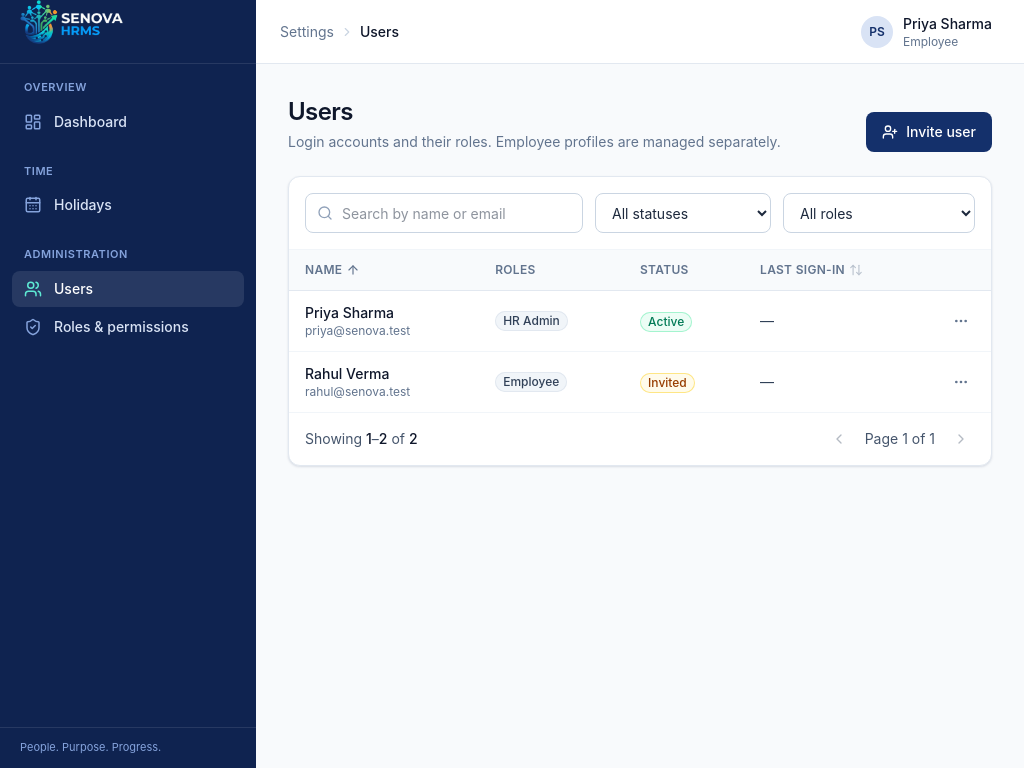
users page › shows server-side field errors in the form
This screenshot has width=1024, height=768.
Click the button "Invite user" at (929, 132), box top-left (866, 112), bottom-right (992, 152)
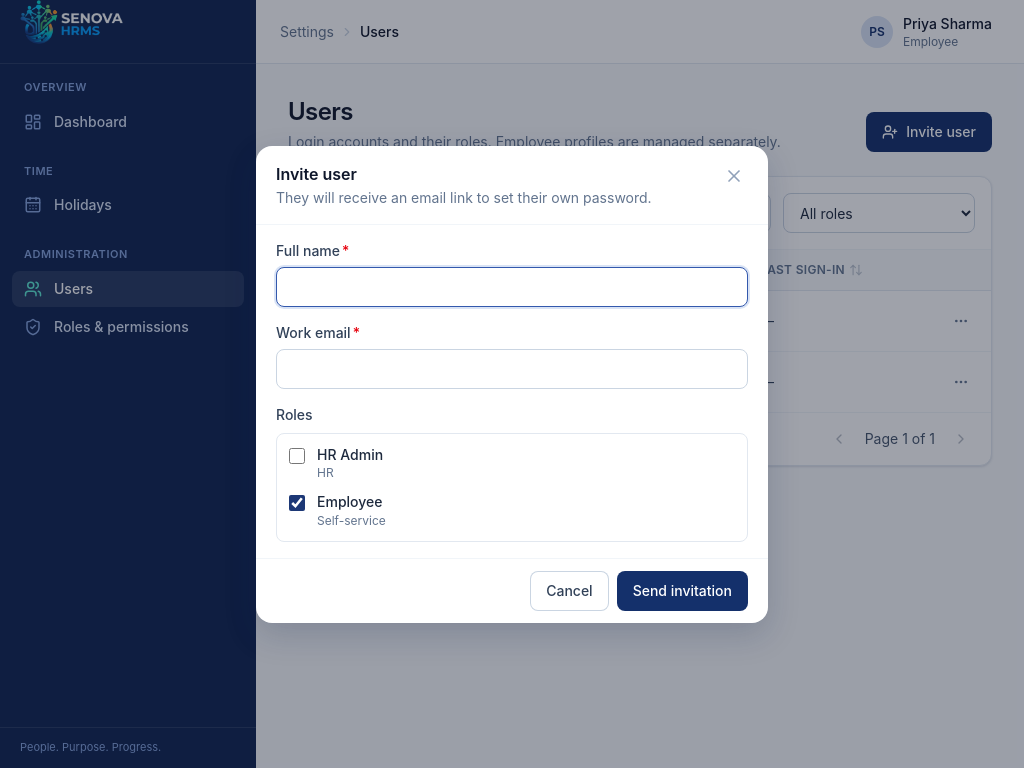
Type "Anita Desai" into the field labelled "Full name*" at (512, 286), box top-left (276, 266), bottom-right (748, 306)
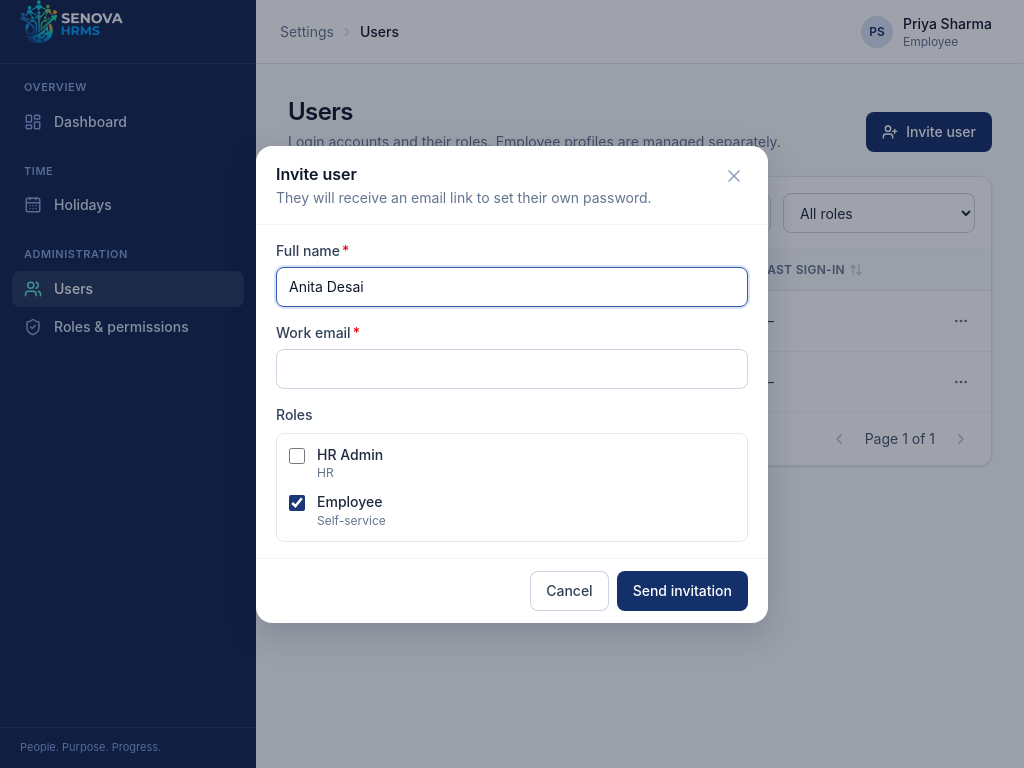
Type "anita@elsewhere.test" into the field labelled "Work email*" at (512, 368), box top-left (276, 348), bottom-right (748, 388)
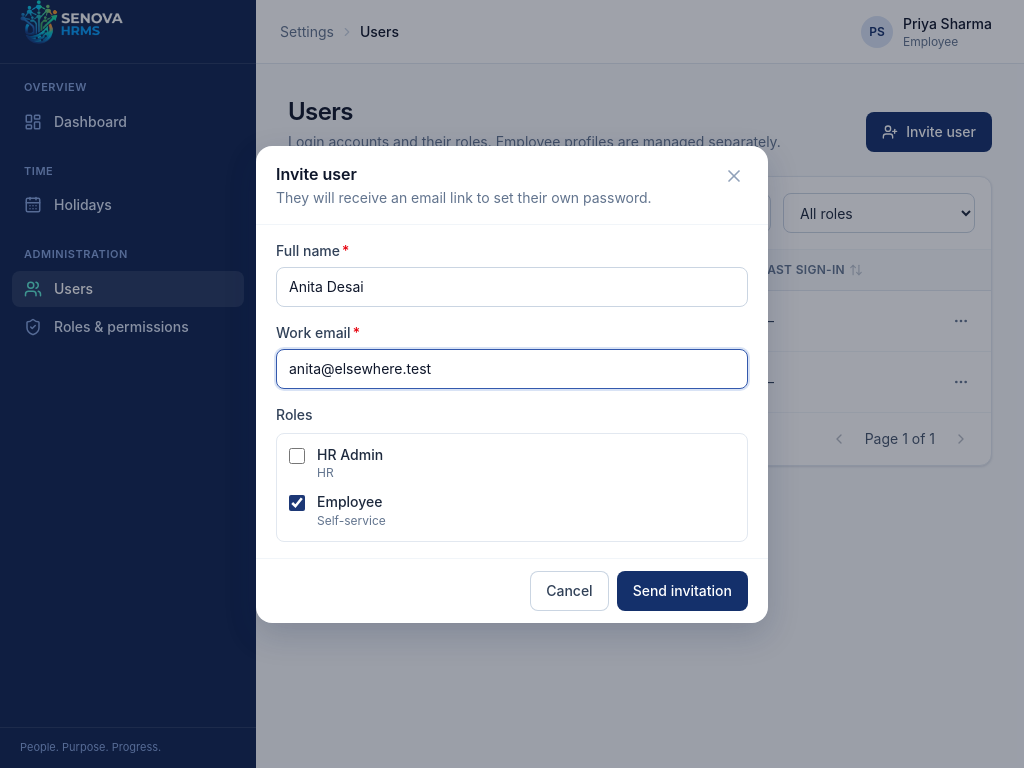
Click the button "Send invitation" at (682, 590), box top-left (617, 570), bottom-right (748, 610)
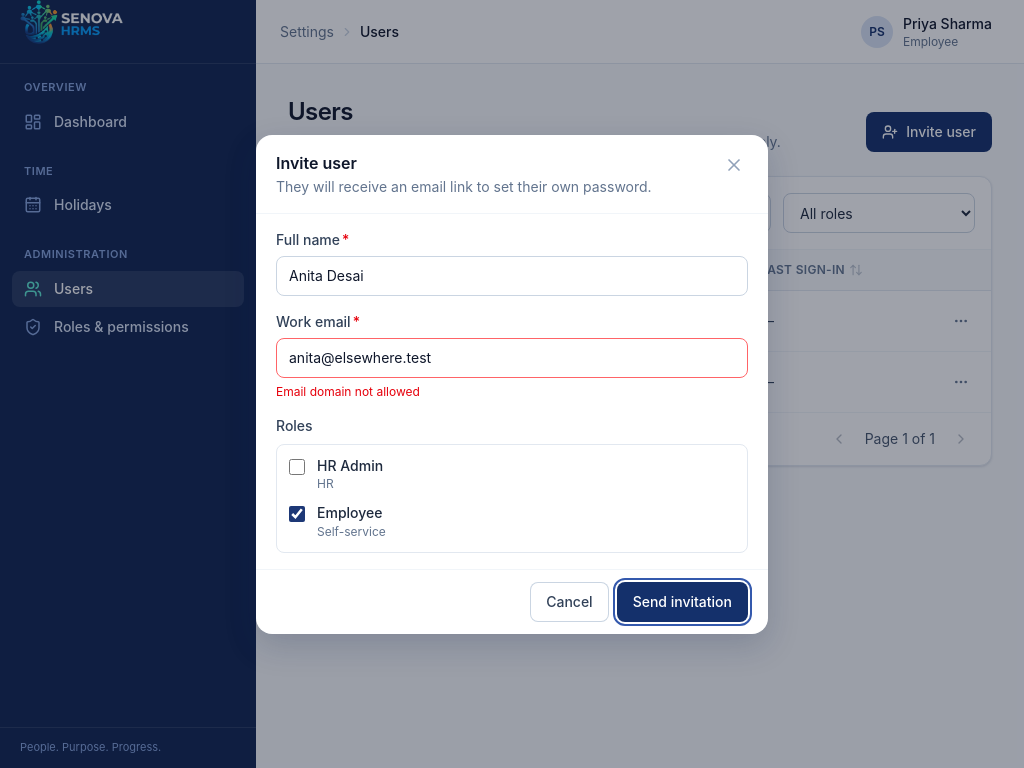
Now the text "Email domain not allowed" is shown, box top-left (276, 384), bottom-right (420, 398)
